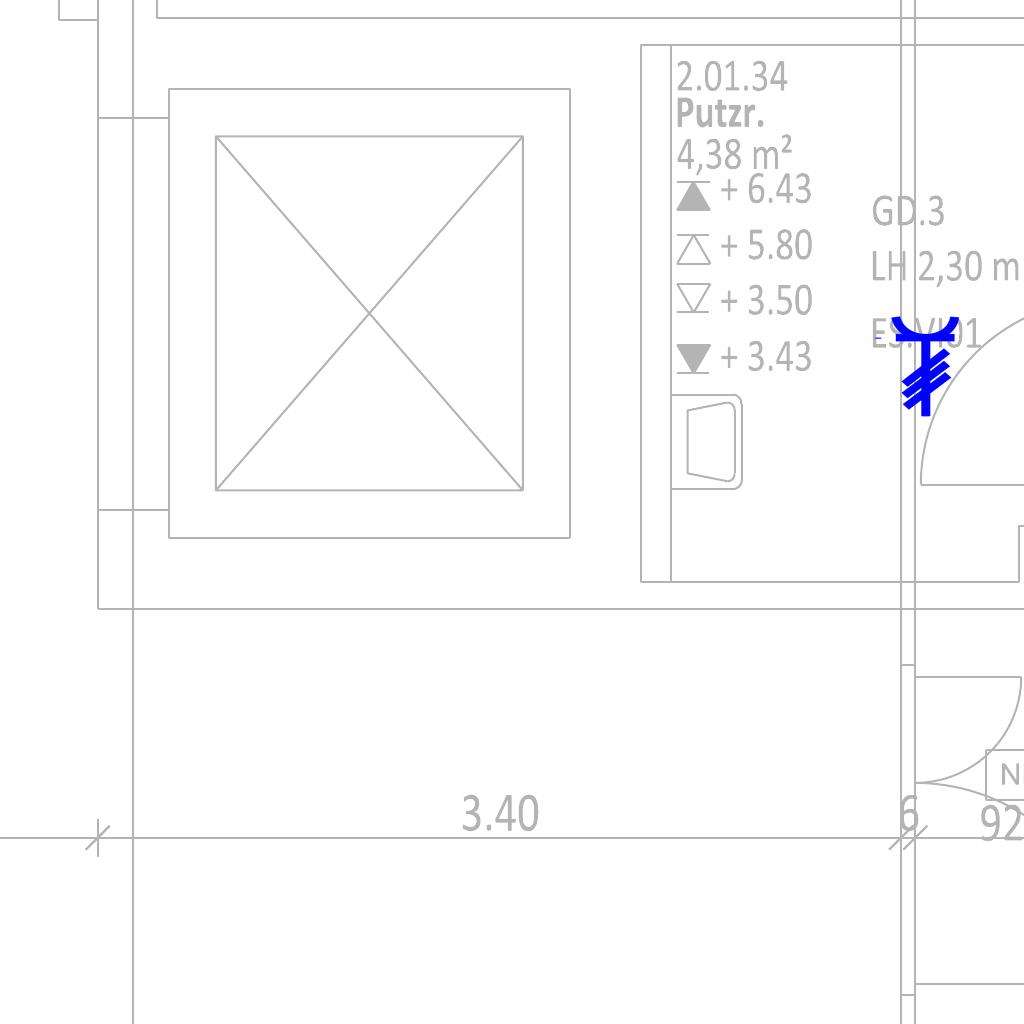CEE_Drehstrom_Steckdose_16_32_A: (872, 314, 962, 418)
